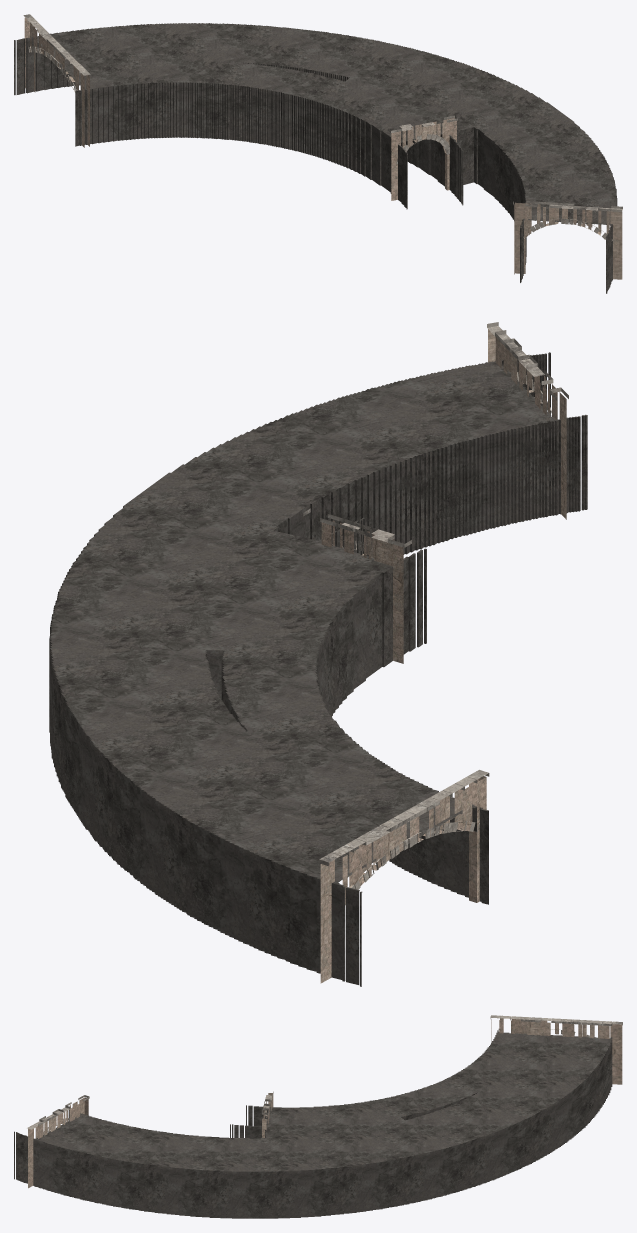
Rendered from tunnels_portals.glb.
3 renders of one model, top to bottom at view 1: azimuth 30°, elevation 25°; view 2: azimuth 150°, elevation 25°; view 3: azimuth 270°, elevation 25°, orthographic. The views are drawn at different scales.
Parts seen in each view (by area): view 1: TUNNEL_ceiling, TUNNEL_walls, TUNNEL_septum_P2_P3, PORTAL_P3, PORTAL_P1, PORTAL_P2; view 2: TUNNEL_ceiling, TUNNEL_walls, PORTAL_P1, TUNNEL_septum_P2_P3, PORTAL_P3, PORTAL_P2; view 3: TUNNEL_ceiling, TUNNEL_walls, PORTAL_P1, PORTAL_P3, TUNNEL_septum_P2_P3, PORTAL_P2.
Part boxes in pixels (x1,y1,x2,y2): TUNNEL_ceiling: (14,23,616,238); TUNNEL_walls: (14,38,617,293); TUNNEL_septum_P2_P3: (345,77,474,186); PORTAL_P3: (513,201,622,279); PORTAL_P1: (23,14,90,147); PORTAL_P2: (388,115,457,200); TUNNEL_ceiling: (50,352,586,892); TUNNEL_walls: (49,353,587,986); PORTAL_P1: (319,769,489,983); TUNNEL_septum_P2_P3: (204,530,320,698); PORTAL_P3: (487,322,568,519); PORTAL_P2: (303,508,411,663); TUNNEL_ceiling: (14,1029,612,1171); TUNNEL_walls: (14,1040,612,1218); PORTAL_P1: (490,1015,622,1084); PORTAL_P3: (27,1095,89,1188); TUNNEL_septum_P2_P3: (265,1117,404,1138); PORTAL_P2: (262,1091,273,1137).
Size of the model in its own units: 0.315 by 0.064 by 0.5668.
Materials: 6 (6 with a texture image).
